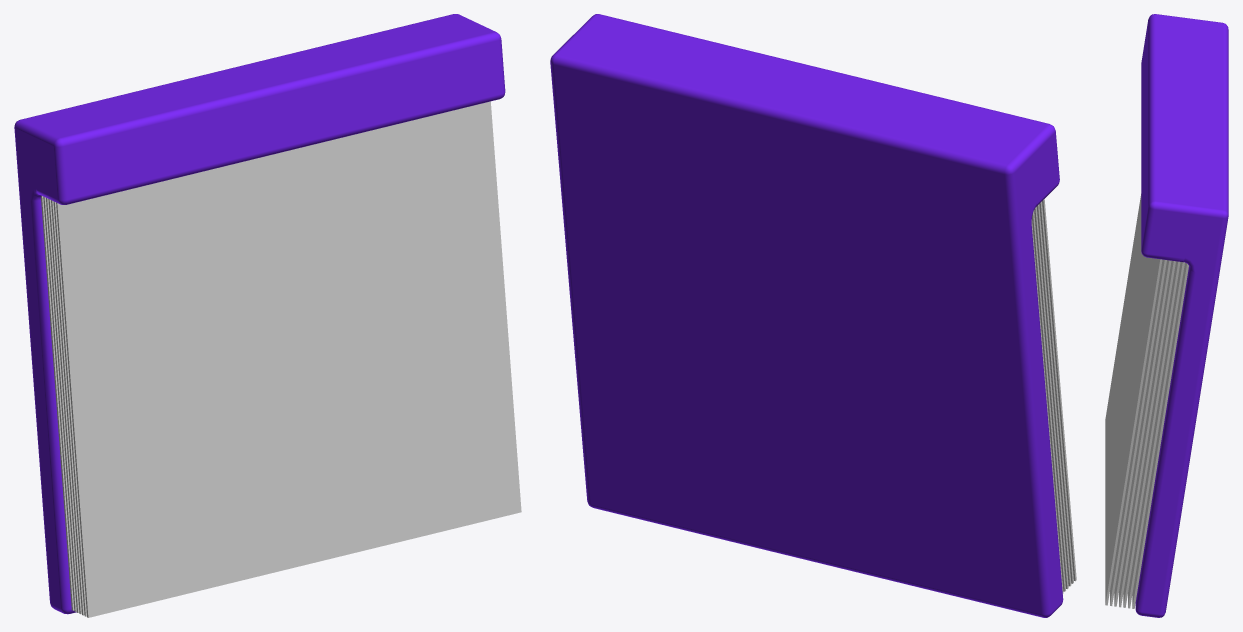
File: Calender.glb
The picture shows the model from 3 angles, left to right: view 1: azimuth 30°, elevation 25°; view 2: azimuth 150°, elevation 25°; view 3: azimuth 270°, elevation 25°; orthographic projection. The views are drawn at different scales.
Visible parts, largest first — view 1: Paper, Callender; view 2: Callender, Paper; view 3: Callender, Paper.
Part boxes in pixels (x1,y1,x2,y2): Paper: [41, 101, 521, 617]; Callender: [14, 14, 505, 614]; Callender: [550, 14, 1063, 617]; Paper: [1031, 199, 1076, 593]; Callender: [1135, 14, 1228, 617]; Paper: [1105, 194, 1188, 608].
Size of the model in its own units: 2 by 2.02 by 0.5422.
